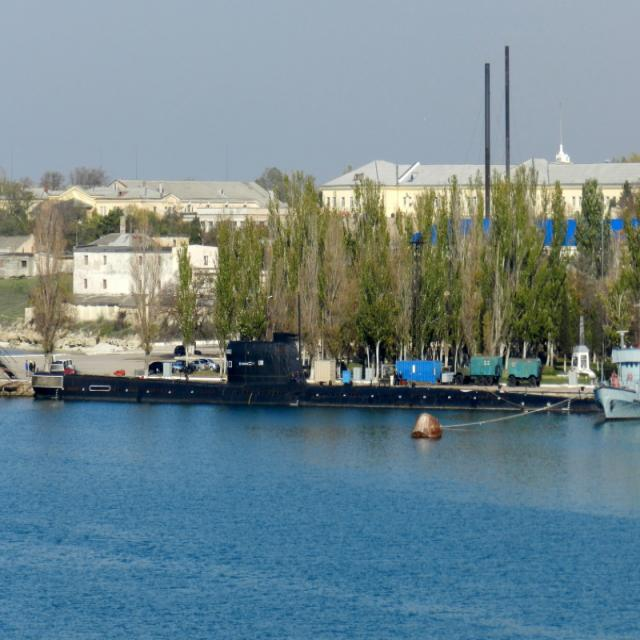submarine: (24, 341, 527, 412)
